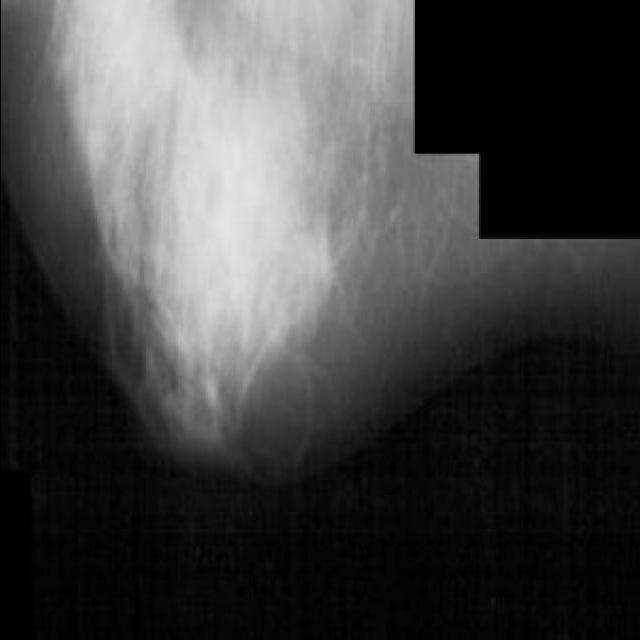tumor: (127, 119, 340, 412)
